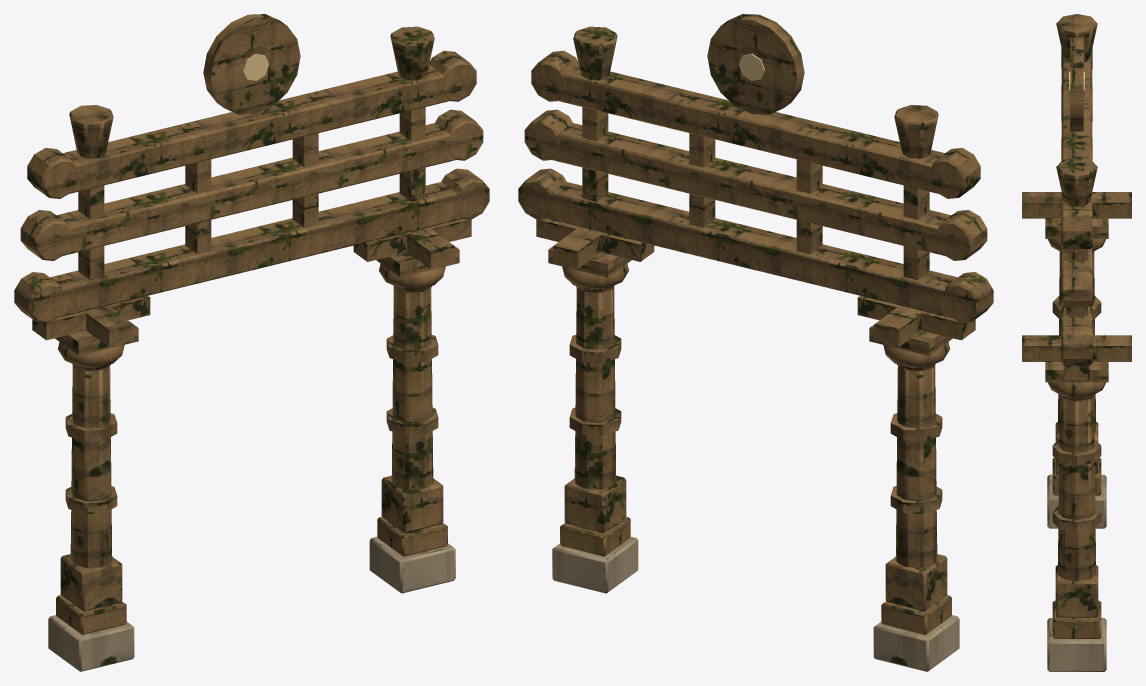
The model's file is Torana.fbx.
3 renders of one model, left to right at view 1: azimuth 30°, elevation 25°; view 2: azimuth 150°, elevation 25°; view 3: azimuth 270°, elevation 25°, orthographic. The views are drawn at different scales.
Visible parts, largest first — view 1: Torana_LOD0; view 2: Torana_LOD0; view 3: Torana_LOD0.
Boxes of the visible parts, x1,y1,x2,y2 form: Torana_LOD0: (14,14,489,671); Torana_LOD0: (518,14,993,671); Torana_LOD0: (1022,14,1131,671).
Size of what is drawn, in the model's own units: 7.17 by 8.9 by 1.62.
